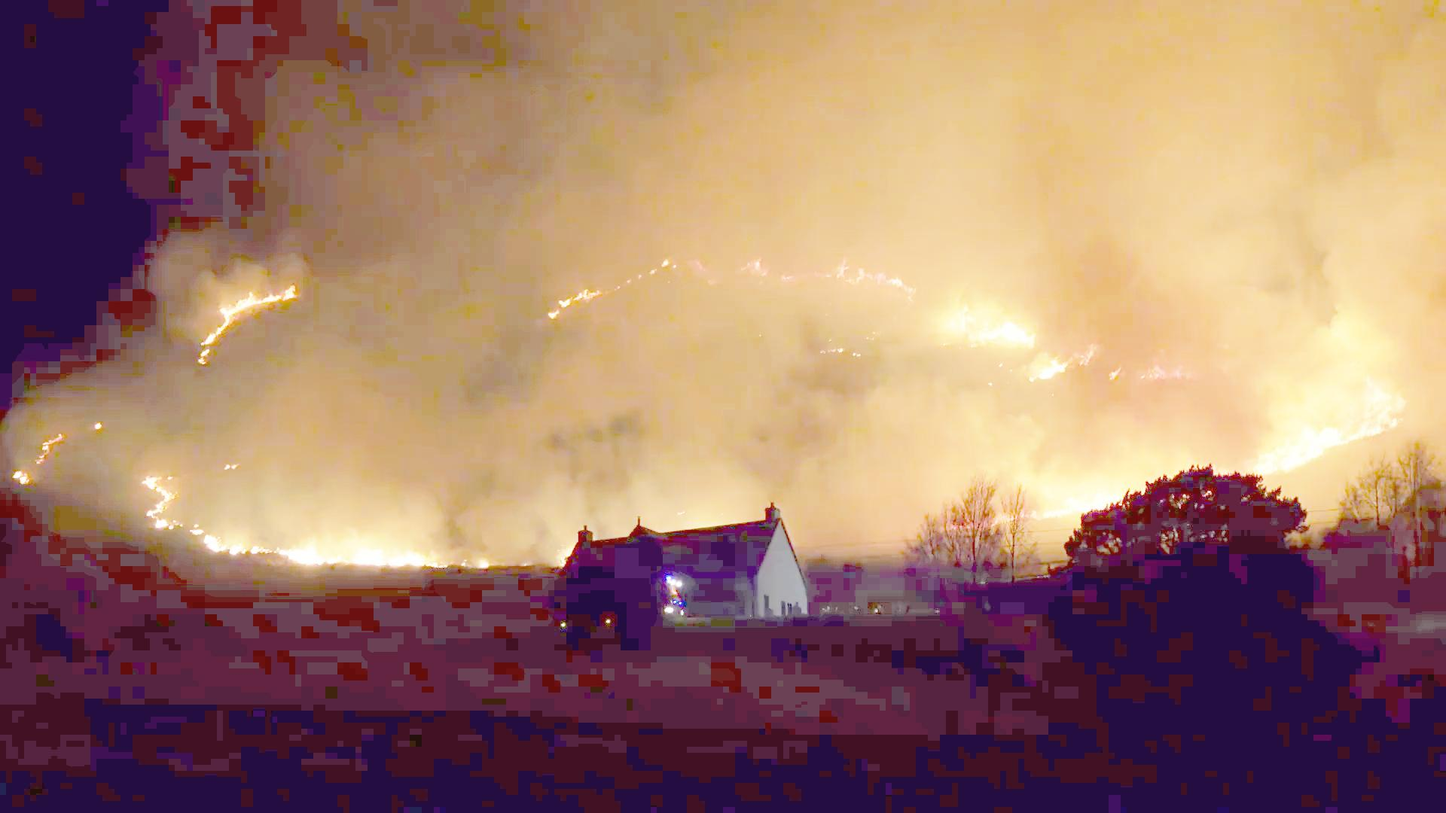fire: (1249, 371, 1410, 473), (177, 527, 453, 572), (953, 288, 1078, 372)
smoke: (698, 0, 1446, 256)
